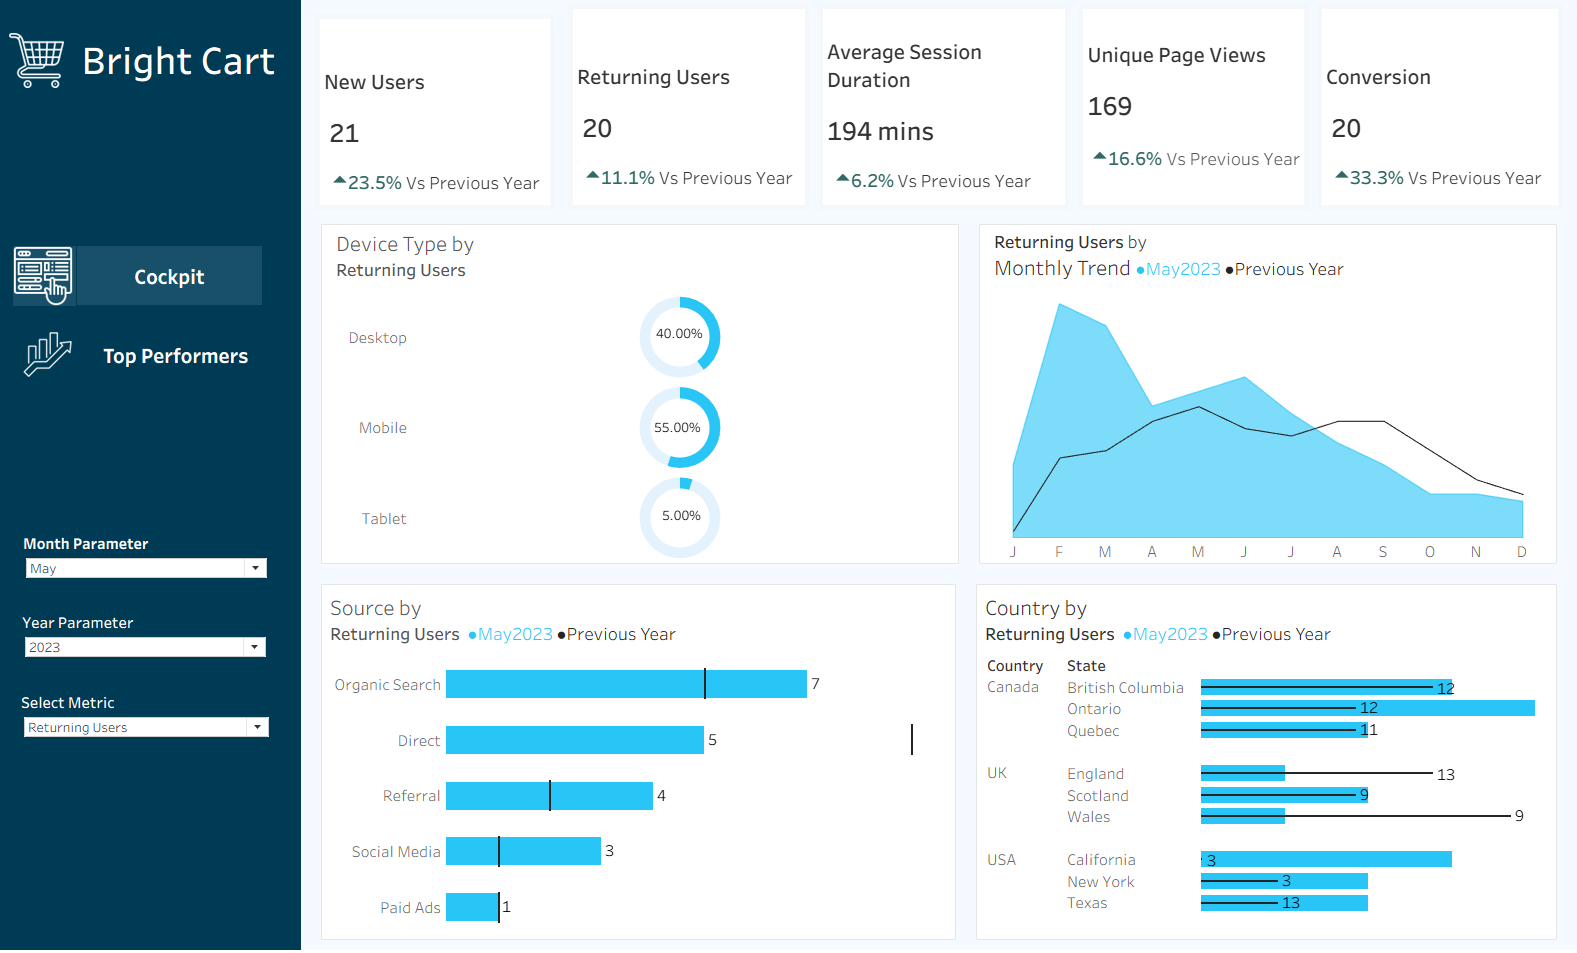

This screenshot's page, from the dashboard's own definition file:
{"tool":"tableau","page":{"name":"Dashboard 1","canvas":[1600,1000],"ordinal":0},"visuals":[{"type":"worksheet","title":"Returning Users","mark":"Automatic","box":[565,0,250,214]},{"type":"worksheet","title":"Average Session Duration","mark":"Automatic","box":[815,0,260,214]},{"type":"worksheet","title":"Unique Page Views","mark":"Automatic","box":[1075,0,239,214]},{"type":"worksheet","title":"Conversion","mark":"Automatic","box":[1314,0,254,214]},{"type":"worksheet","title":"New Users","mark":"Automatic","box":[312,10,248,204]},{"type":"text","box":[79,32,210,55]},{"type":"image","param":"Image/shopping-cart.png","box":[10,33,61,55]},{"type":"worksheet","title":"Device Type","mark":"Pie","rows":["Device Type"],"cols":["Calculation_439382493713358851","Calculation_439382493713391621"],"box":[323,225,636,338]},{"type":"worksheet","title":"Monthly Trend","mark":"Bar","rows":["Metric CY and CM (copy)_439382493731053590","Metric PY and PM (copy)_439382493731475479"],"cols":["Timestamp"],"box":[981,225,576,338]},{"type":"image","param":"Image/navigation.png","box":[14,246,63,60]},{"type":"text","box":[78,246,185,59]},{"type":"image","param":"Image/performance.png","box":[23,329,61,51]},{"type":"dashboard-object","box":[78,329,198,52]},{"type":"parameter","param":"[Parameters].[Parameter 1]","box":[24,533,247,48]},{"type":"worksheet","title":"Traffic by Metric","mark":"Bar","rows":["Traffic Source"],"cols":["Calculation_1026539294108708865","Metric CY (copy)_1026539294115807234"],"box":[323,585,633,354]},{"type":"worksheet","title":"Country by Metric","mark":"Bar","rows":["Country","State"],"cols":["vtnone","vtnone"],"box":[978,585,579,354]},{"type":"parameter","param":"[Parameters].[Parameter 2]","box":[23,612,247,48]},{"type":"parameter","param":"[Parameters].[Parameter 3]","box":[22,692,251,48]}]}

Visuals, with their boxes on the page's 1600x1000 design canvas (x1, y1, x2, y2). These are canvas units, not pixel positions in the 1577x953 screenshot, which may show the page scaled, cropped or inside an application window:
"Returning Users" worksheet: (565,0,815,214)
"Average Session Duration" worksheet: (815,0,1075,214)
"Unique Page Views" worksheet: (1075,0,1314,214)
"Conversion" worksheet: (1314,0,1568,214)
"New Users" worksheet: (312,10,560,214)
text: (79,32,289,87)
image: (10,33,71,88)
"Device Type" worksheet (Pie marks): (323,225,959,563)
"Monthly Trend" worksheet (Bar marks): (981,225,1557,563)
image: (14,246,77,306)
text: (78,246,263,305)
image: (23,329,84,380)
dashboard-object: (78,329,276,381)
parameter: (24,533,271,581)
"Traffic by Metric" worksheet (Bar marks): (323,585,956,939)
"Country by Metric" worksheet (Bar marks): (978,585,1557,939)
parameter: (23,612,270,660)
parameter: (22,692,273,740)
